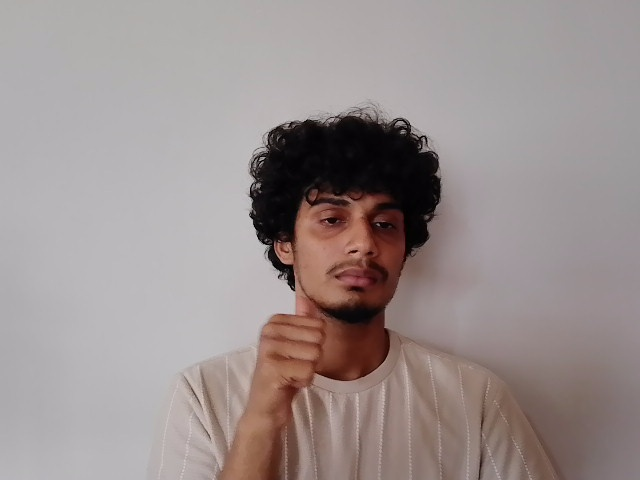not: (250, 291, 400, 385)
